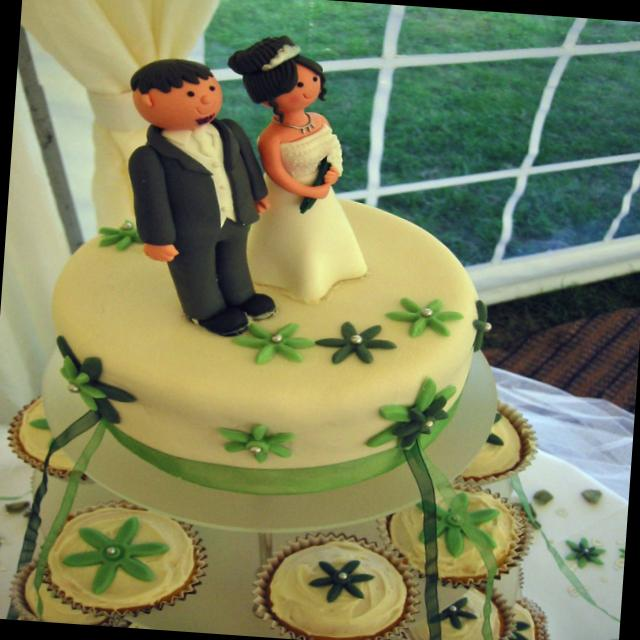Toy: (111, 55, 292, 340), (210, 31, 382, 308)
